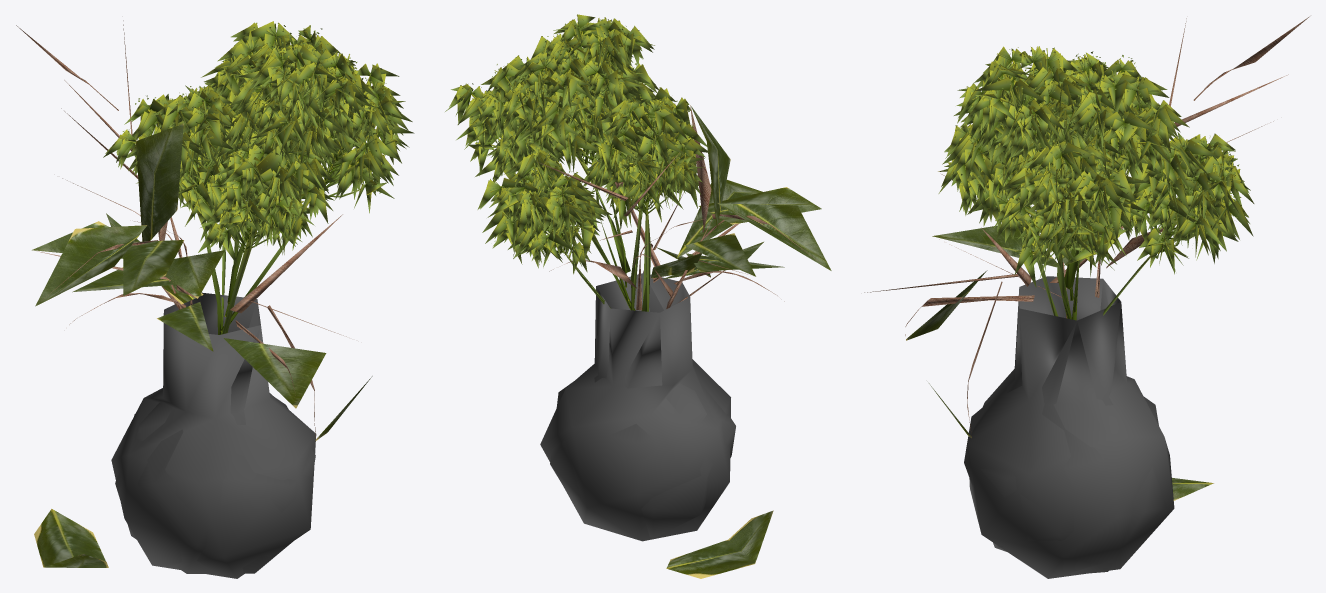
3 views of the same model, side by side, from view 1: azimuth 30°, elevation 25°; view 2: azimuth 150°, elevation 25°; view 3: azimuth 270°, elevation 25° (orthographic). The views are drawn at different scales.
Parts seen in each view (by area): view 1: twig_fluffy, Indoor potted plant, twig, twig.002, leaf, twig.001; view 2: twig_fluffy, Indoor potted plant, twig, leaf, twig.001, twig.002; view 3: twig_fluffy, Indoor potted plant, twig.002, twig, twig.001.
Boxes of the visible parts, left/top/right/bottom form: twig_fluffy: left=103, top=21, right=414, bottom=334; Indoor potted plant: left=111, top=292, right=316, bottom=578; twig: left=32, top=123, right=225, bottom=351; twig.002: left=223, top=214, right=372, bottom=440; leaf: left=34, top=509, right=108, bottom=567; twig.001: left=16, top=20, right=192, bottom=305; twig_fluffy: left=445, top=14, right=707, bottom=311; Indoor potted plant: left=540, top=273, right=735, bottom=541; twig: left=651, top=105, right=831, bottom=308; leaf: left=666, top=510, right=773, bottom=578; twig.001: left=536, top=152, right=705, bottom=310; twig.002: left=630, top=193, right=710, bottom=282; twig_fluffy: left=938, top=46, right=1254, bottom=320; Indoor potted plant: left=964, top=276, right=1174, bottom=578; twig.002: left=864, top=227, right=1034, bottom=437; twig: left=932, top=60, right=1132, bottom=318; twig.001: left=1095, top=16, right=1309, bottom=297.
Size of the model in its own units: 0.3438 by 0.4261 by 0.329.
Materials: 4 (3 with a texture image).
